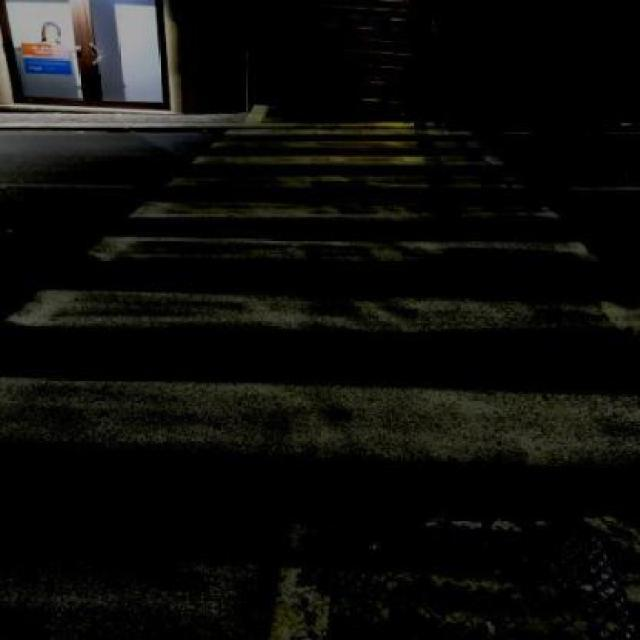crosswalk: (0, 129, 640, 457)
